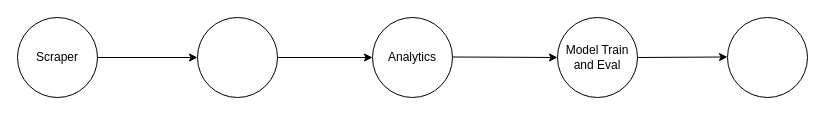
This 825x115 diagram has some shape labels left out. The centre of each missing label's shape, as x and y in pixels:
Pre-Process: the point at 237,57
Visualization: the point at 767,57
